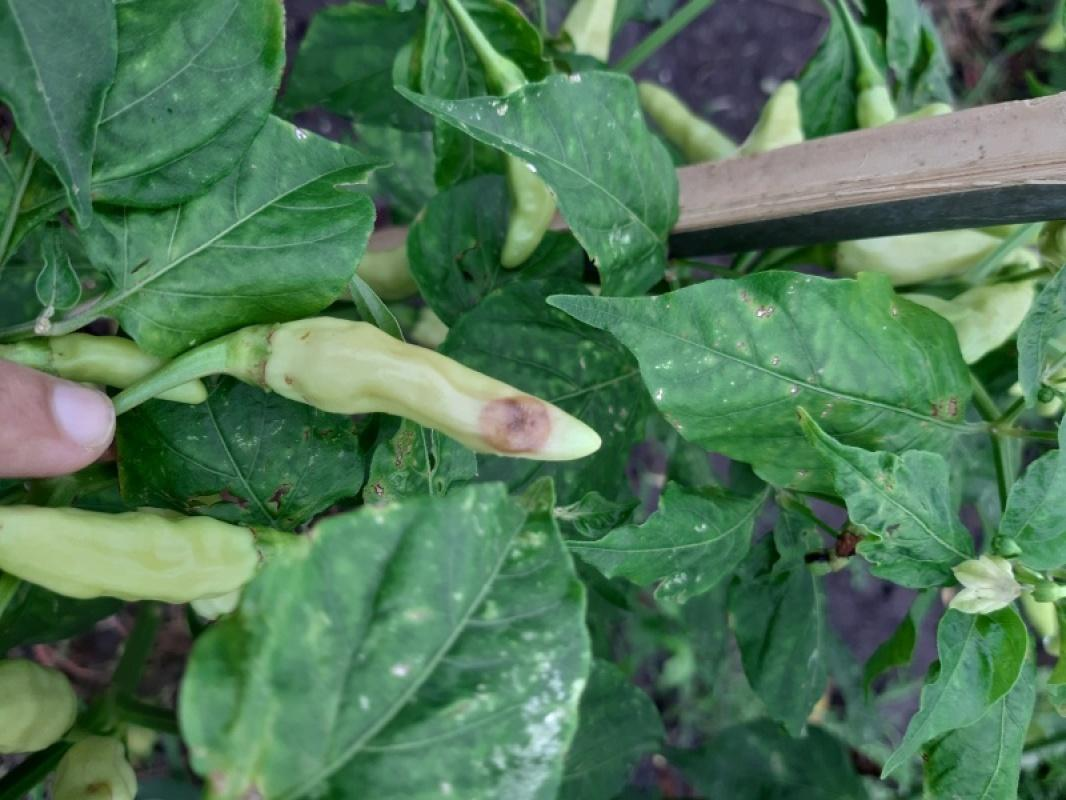antraknosa: (268, 317, 602, 463)
cabai_normal: (1, 505, 261, 605), (44, 328, 210, 406), (494, 67, 556, 268), (841, 228, 1043, 286), (632, 78, 736, 162)
